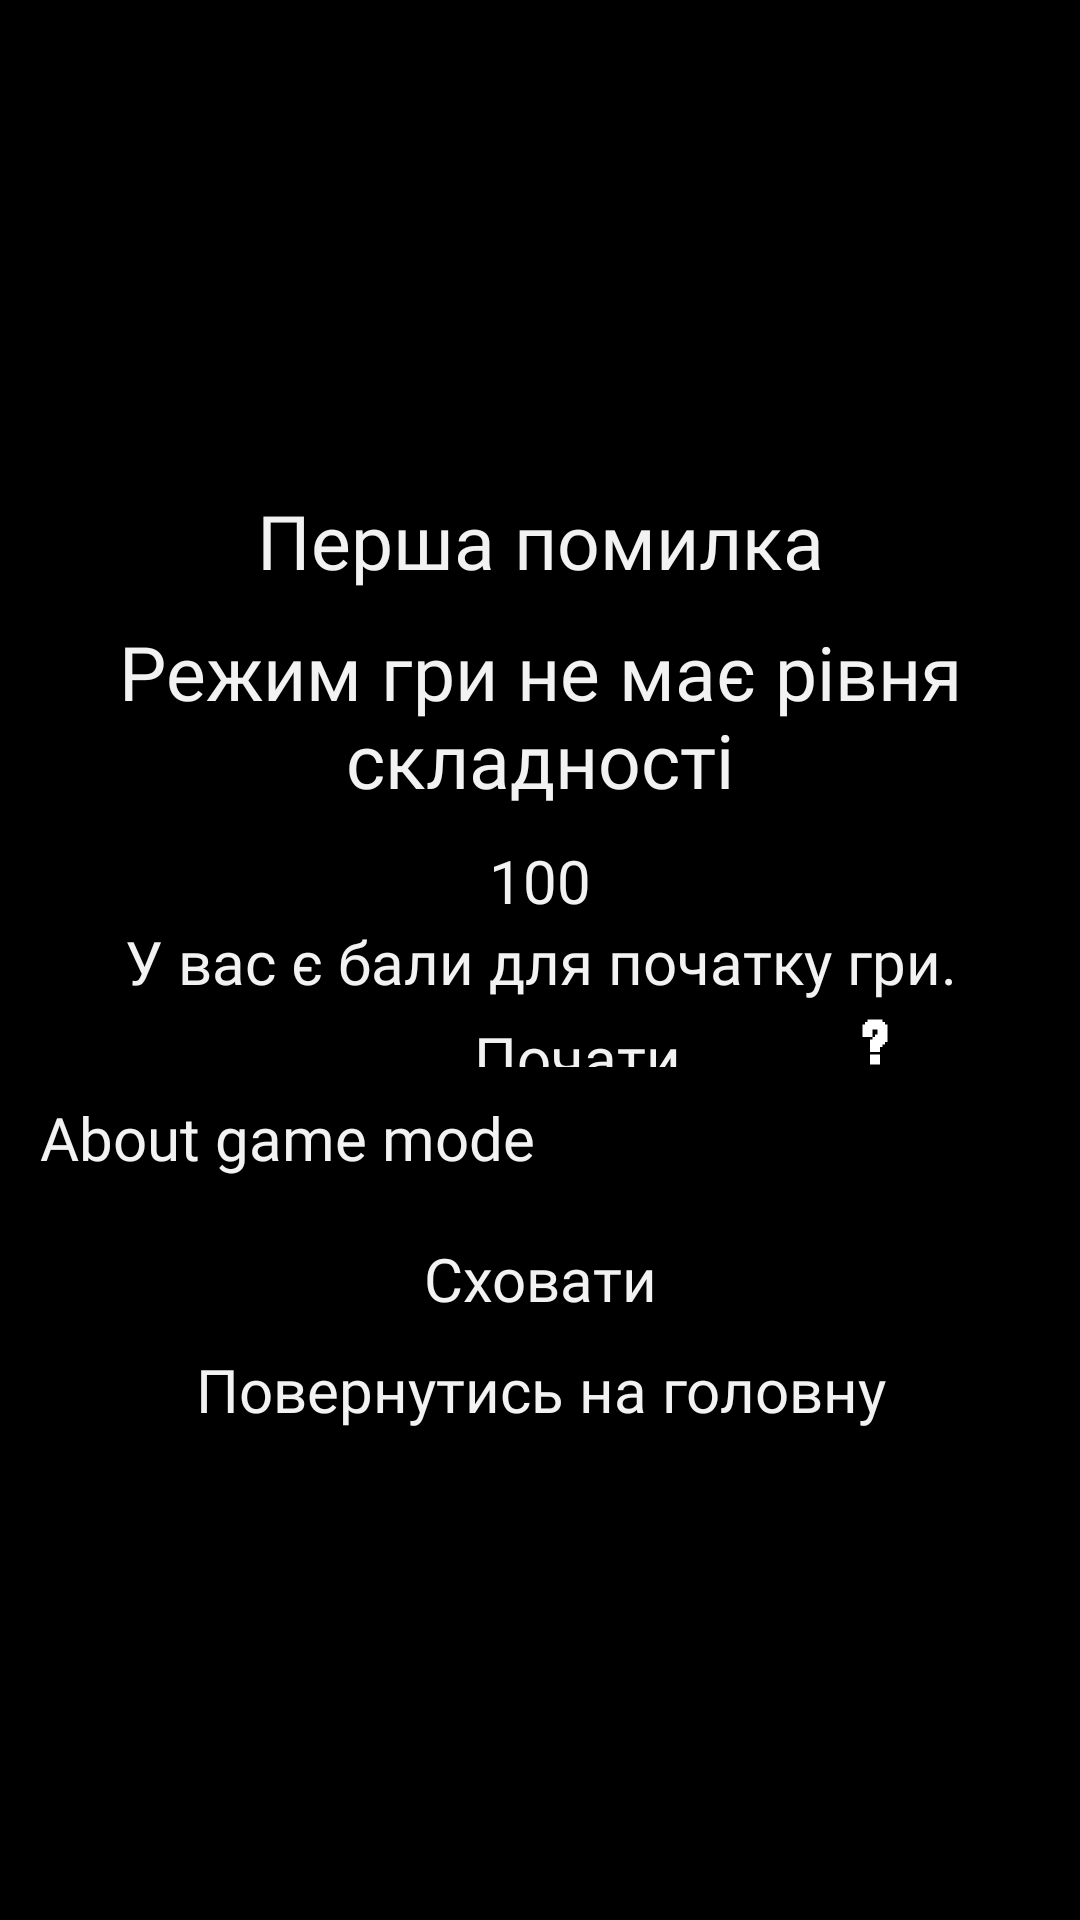

Locate icon controls on the screen. Image size 1080×1920, boxes as region(x1, y1, x2, y2).
question mark: region(862, 1019, 888, 1065)
